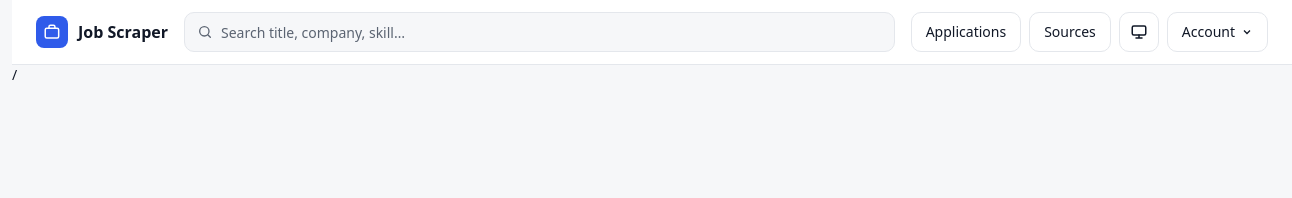
it: laptop header › the Account menu holds the two log-outs
Click the button "Account". click: point(1217, 32)
box: [1167,12,1268,52]
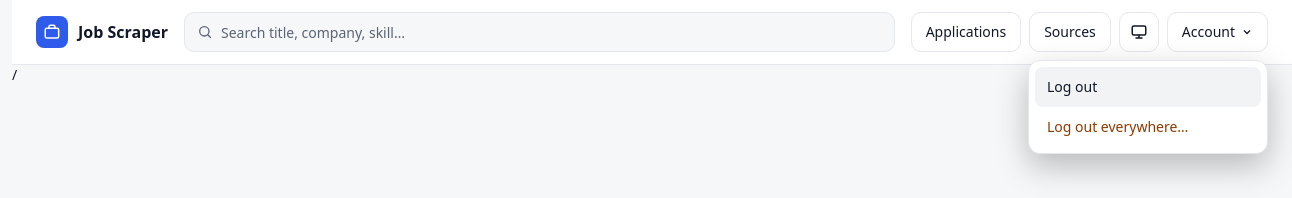
Check: the menu items read "Log out", "Log out everywhere…", in this order, box [1035,67,1261,107]; [1035,107,1261,147]
